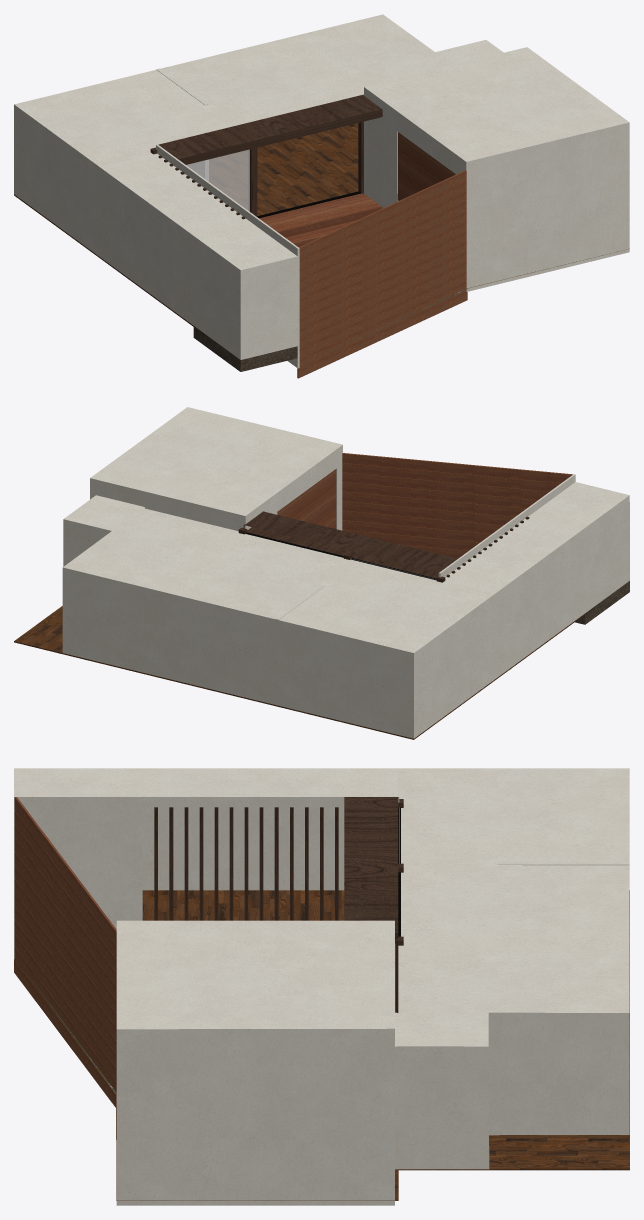
Rendered from house.fbx.
3 renders of one model, top to bottom at view 1: azimuth 30°, elevation 25°; view 2: azimuth 150°, elevation 25°; view 3: azimuth 270°, elevation 25°, orthographic. The views are drawn at different scales.
Visible parts, largest first — view 1: 立方体.004, 平面.007, 立方体.015, 立方体.007, 立方体.008, 立方体.002, 立方体.010, 立方体.014; view 2: 立方体.004, 平面.007, 立方体.007, 立方体.015, 立方体.002; view 3: 立方体.004, 平面.007, 立方体.015, 立方体.007, 立方体.005.
Boxes of the visible parts, left/top/right/bottom form: 立方体.004: left=14, top=14, right=629, bottom=371; 平面.007: left=297, top=170, right=467, bottom=378; 立方体.015: left=14, top=123, right=358, bottom=326; 立方体.007: left=158, top=94, right=382, bottom=164; 立方体.008: left=259, top=193, right=382, bottom=247; 立方体.002: left=397, top=132, right=455, bottom=200; 立方体.010: left=186, top=149, right=249, bottom=211; 立方体.014: left=150, top=121, right=363, bottom=216; 立方体.004: left=62, top=407, right=629, bottom=738; 平面.007: left=342, top=453, right=572, bottom=558; 立方体.007: left=243, top=511, right=457, bottom=578; 立方体.015: left=14, top=606, right=584, bottom=739; 立方体.002: left=277, top=469, right=336, bottom=528; 立方体.004: left=14, top=768, right=629, bottom=1205; 平面.007: left=14, top=797, right=116, bottom=1107; 立方体.015: left=142, top=890, right=629, bottom=1170; 立方体.007: left=344, top=797, right=398, bottom=943; 立方体.005: left=154, top=807, right=338, bottom=920.
Bounding box in the file's own units: 1361 × 423 × 1253.
